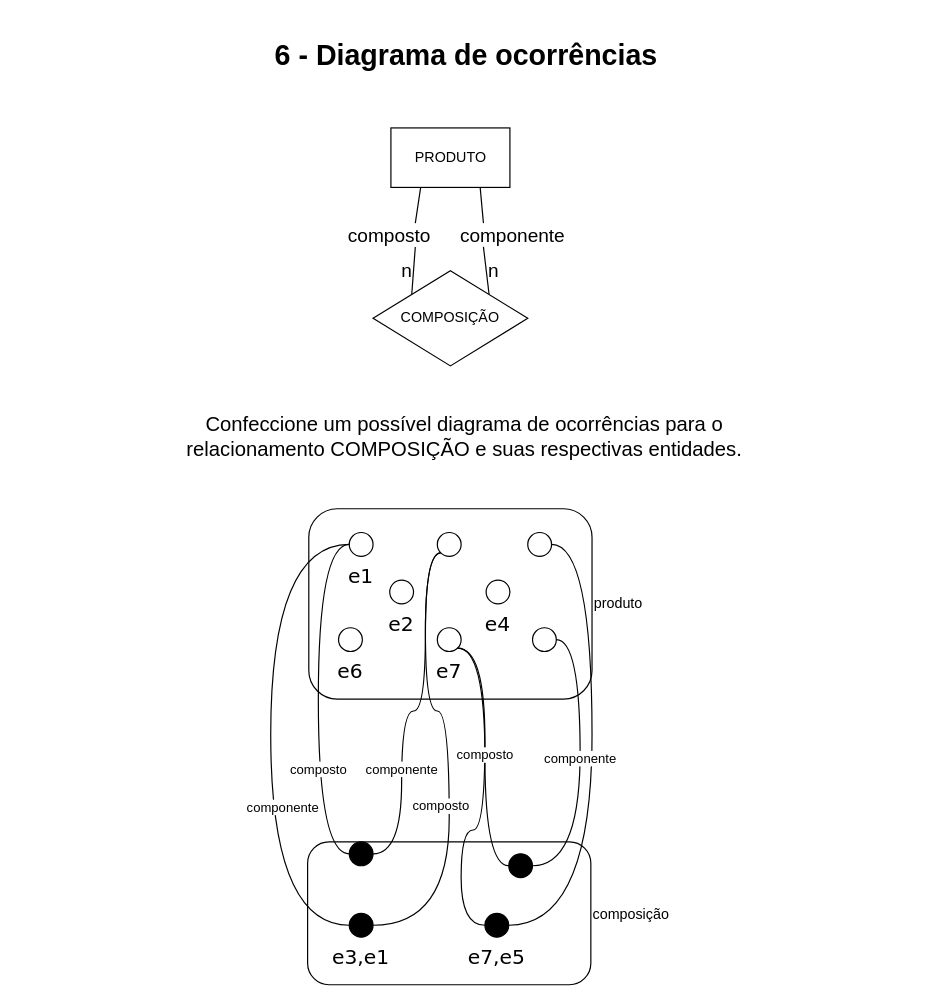
The diagram is 932 pixels wide and 1006 high, and some of its shapes have lost their labels. The box of each missing label's shape, as (x1, y1, x2, y2) in pixels:
e1,e3: (348, 841, 373, 866)
e3: (436, 531, 461, 556)
e5: (527, 531, 552, 556)
e7,e8: (508, 853, 533, 878)
e8: (531, 627, 556, 652)
